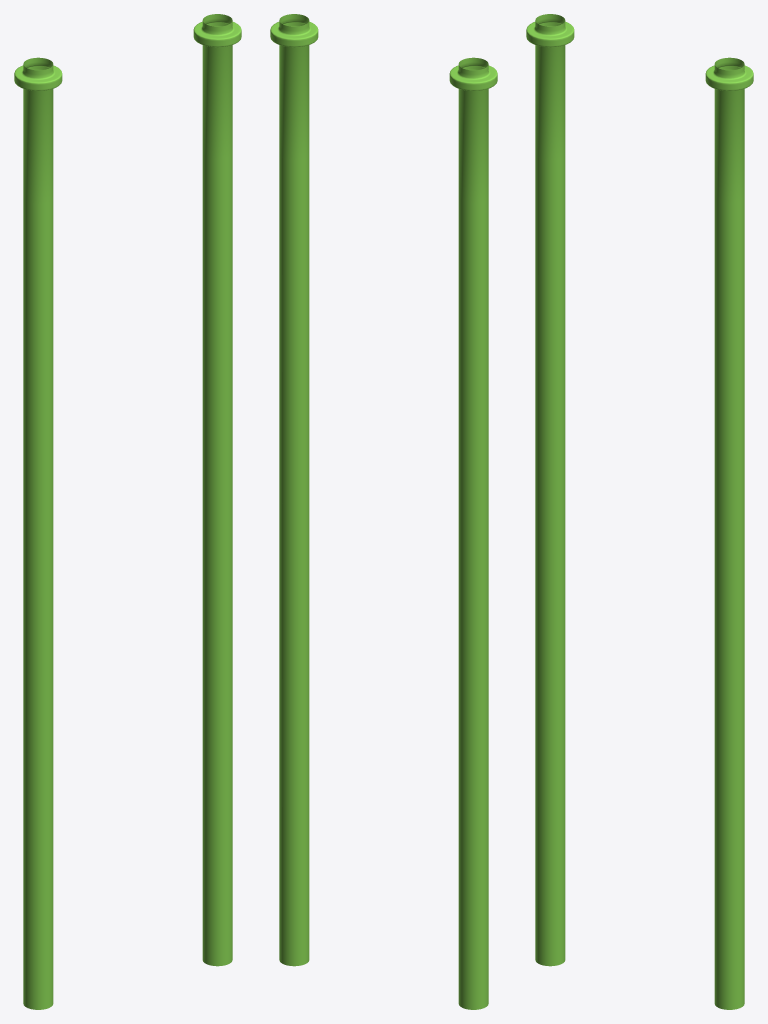
The picture shows the model from 3 angles, left to right: view 1: azimuth 30°, elevation 25°; view 2: azimuth 150°, elevation 25°; view 3: azimuth 330°, elevation 25°; orthographic projection.
Visible parts, largest first — view 1: Slide; view 2: Slide; view 3: Slide.
Boxes of the visible parts, bbox=[...] form: Slide: bbox=[14, 14, 241, 1009]; Slide: bbox=[270, 14, 497, 1009]; Slide: bbox=[526, 14, 753, 1009].
Bounding box in the file's own units: 39.19 × 159 × 7.39.
